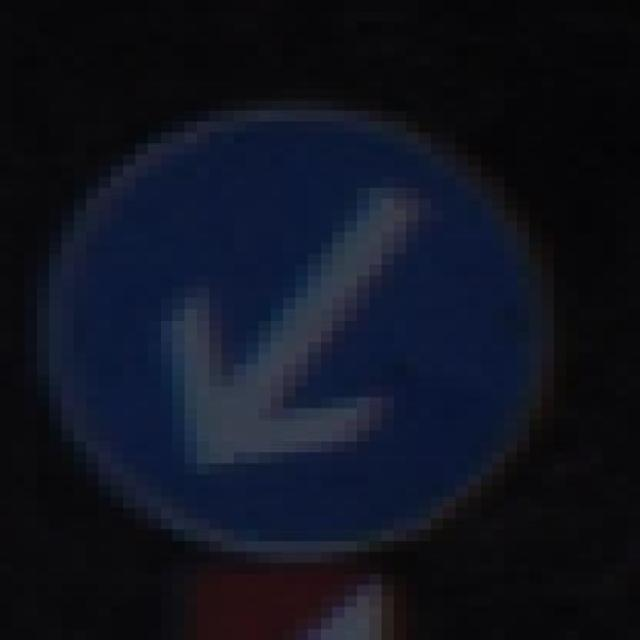Keep-Left: (37, 100, 578, 562)
